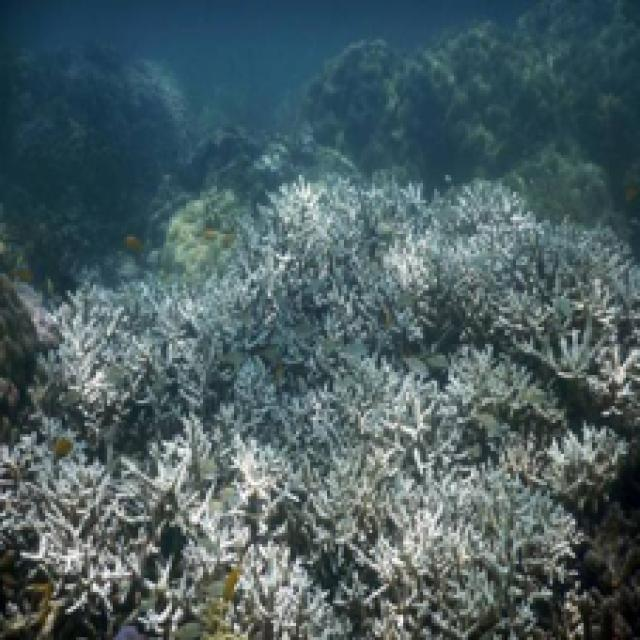Bleached: (323, 477, 577, 640), (292, 227, 640, 336), (258, 329, 452, 493), (134, 258, 289, 453), (1, 438, 156, 610), (51, 302, 139, 441), (142, 447, 206, 634), (236, 541, 352, 640), (191, 443, 280, 571), (446, 344, 576, 427), (344, 186, 529, 227), (441, 421, 546, 493), (266, 181, 344, 268), (582, 339, 640, 431), (544, 431, 627, 493), (382, 237, 444, 298)
